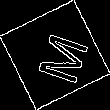M_W: (24, 25, 86, 85)
